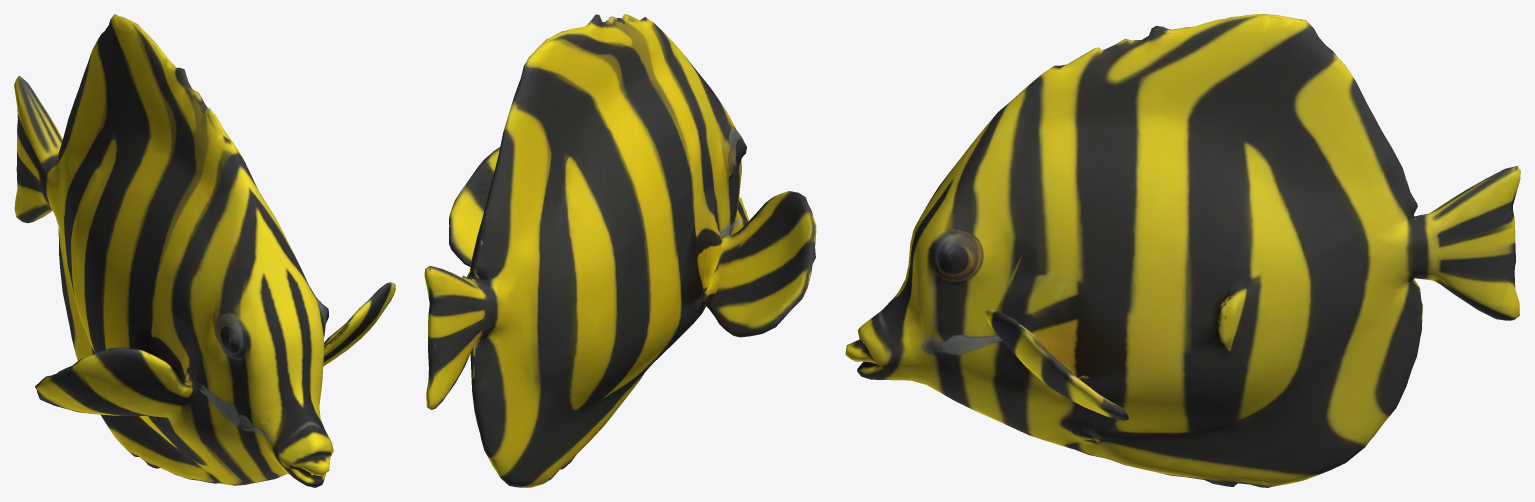
Rendered from TropicalAngelfish_remeshed.glb.
3 renders of one model, left to right at view 1: azimuth 30°, elevation 25°; view 2: azimuth 150°, elevation 25°; view 3: azimuth 270°, elevation 25°, orthographic. The views are drawn at different scales.
Parts seen in each view (by area): view 1: Mesh1.0; view 2: Mesh1.0; view 3: Mesh1.0.
Boxes of the visible parts, left/top/right/bottom form: Mesh1.0: left=14, top=14, right=395, bottom=487; Mesh1.0: left=424, top=14, right=816, bottom=487; Mesh1.0: left=845, top=14, right=1520, bottom=487.
Size of the model in its own units: 0.251 by 0.3 by 0.3873.
Materials: 1 (1 with a texture image).
